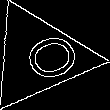O_SW: (4, 27, 75, 88)
